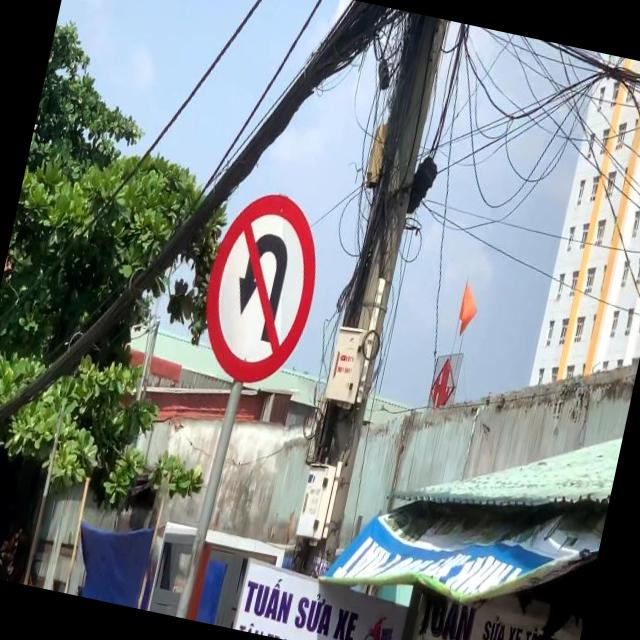P-124a1: (192, 182, 332, 386)
